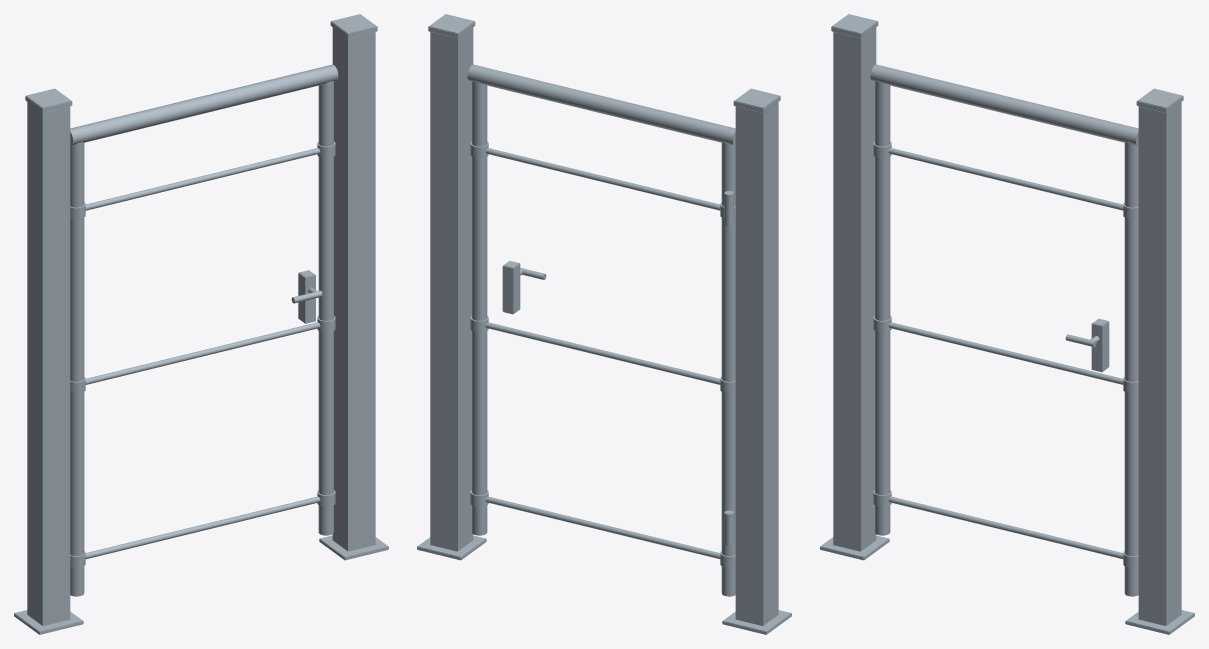
The model's file is 06-pesacka.glb.
3 renders of one model, left to right at view 1: azimuth 30°, elevation 25°; view 2: azimuth 150°, elevation 25°; view 3: azimuth 330°, elevation 25°, orthographic.
Parts seen in each view (by area): view 1: Stub_levi.020, Stub_desni.020, Ram_inox_uspravni.011, Ram_inox_uspravni.010, Ram_rukohvat.005, Ispuna_okrugla_precka.020, Ispuna_okrugla_precka.021, Ispuna_okrugla_precka.022, Okov_brava.020, Kapa_stuba.040, Kapa_stuba.041, Stopa_stuba.041 (+1 smaller); view 2: Stub_levi.020, Stub_desni.020, Ram_inox_uspravni.011, Ram_inox_uspravni.010, Ram_rukohvat.005, Ispuna_okrugla_precka.020, Ispuna_okrugla_precka.021, Ispuna_okrugla_precka.022, Okov_brava.020, Kapa_stuba.040, Kapa_stuba.041, Stopa_stuba.041 (+1 smaller); view 3: Stub_desni.020, Stub_levi.020, Ram_inox_uspravni.010, Ram_inox_uspravni.011, Ram_rukohvat.005, Ispuna_okrugla_precka.020, Ispuna_okrugla_precka.021, Ispuna_okrugla_precka.022, Okov_brava.020, Kapa_stuba.041, Kapa_stuba.040, Stopa_stuba.040 (+1 smaller).
Part boxes in pixels (bbox=[...]): Stub_levi.020: bbox=[27, 102, 70, 625]; Stub_desni.020: bbox=[332, 27, 375, 551]; Ram_inox_uspravni.011: bbox=[318, 81, 333, 535]; Ram_inox_uspravni.010: bbox=[70, 142, 84, 596]; Ram_rukohvat.005: bbox=[70, 64, 338, 145]; Ispuna_okrugla_precka.020: bbox=[85, 496, 320, 559]; Ispuna_okrugla_precka.021: bbox=[85, 322, 320, 384]; Ispuna_okrugla_precka.022: bbox=[85, 148, 320, 210]; Okov_brava.020: bbox=[298, 270, 315, 323]; Kapa_stuba.040: bbox=[25, 88, 72, 112]; Kapa_stuba.041: bbox=[330, 14, 377, 38]; Stopa_stuba.041: bbox=[319, 535, 388, 560]; Stub_levi.020: bbox=[735, 102, 778, 625]; Stub_desni.020: bbox=[430, 27, 473, 551]; Ram_inox_uspravni.011: bbox=[472, 81, 487, 535]; Ram_inox_uspravni.010: bbox=[721, 142, 735, 596]; Ram_rukohvat.005: bbox=[467, 64, 735, 145]; Ispuna_okrugla_precka.020: bbox=[485, 496, 720, 559]; Ispuna_okrugla_precka.021: bbox=[485, 322, 720, 384]; Ispuna_okrugla_precka.022: bbox=[485, 148, 720, 210]; Okov_brava.020: bbox=[502, 261, 520, 314]; Kapa_stuba.040: bbox=[733, 88, 780, 112]; Kapa_stuba.041: bbox=[428, 14, 475, 38]; Stopa_stuba.041: bbox=[417, 535, 486, 560]; Stub_desni.020: bbox=[1138, 102, 1181, 625]; Stub_levi.020: bbox=[833, 27, 876, 551]; Ram_inox_uspravni.010: bbox=[875, 81, 890, 535]; Ram_inox_uspravni.011: bbox=[1124, 142, 1138, 596]; Ram_rukohvat.005: bbox=[870, 64, 1138, 145]; Ispuna_okrugla_precka.020: bbox=[888, 496, 1123, 559]; Ispuna_okrugla_precka.021: bbox=[888, 322, 1123, 384]; Ispuna_okrugla_precka.022: bbox=[888, 148, 1123, 210]; Okov_brava.020: bbox=[1091, 318, 1109, 372]; Kapa_stuba.041: bbox=[1136, 88, 1183, 112]; Kapa_stuba.040: bbox=[831, 14, 878, 38]; Stopa_stuba.040: bbox=[820, 535, 889, 560].
Size of the model in its own units: 1.26 by 1.8 by 0.19.
